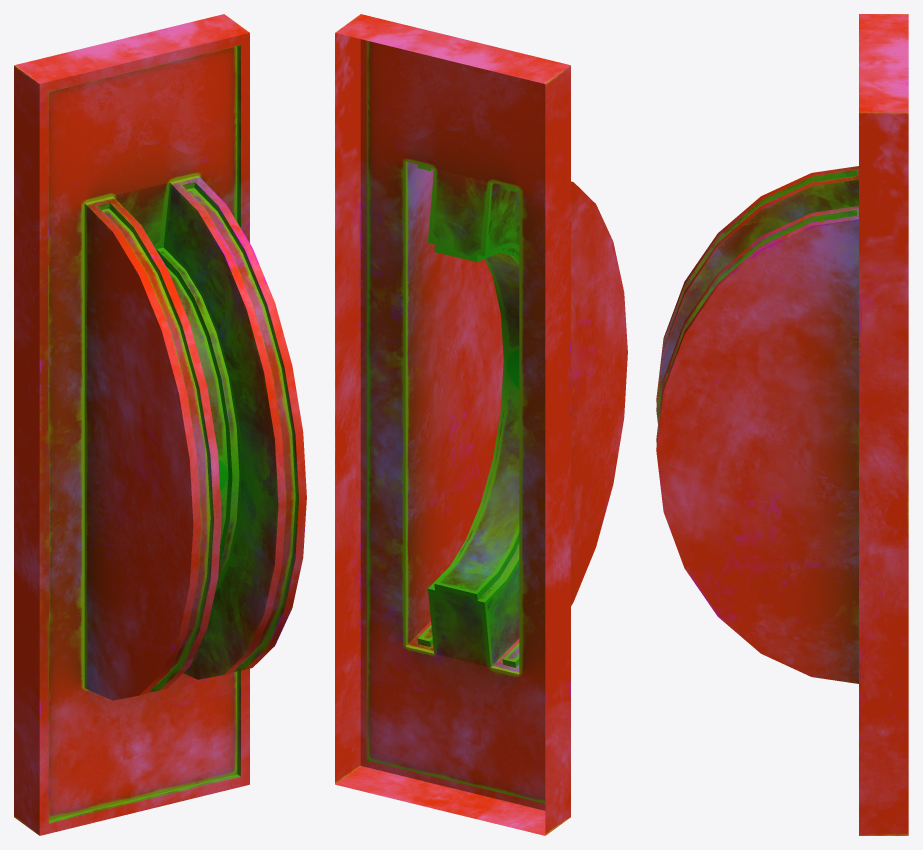
The model's file is Lever_Housing.glb.
3 views of the same model, side by side, from view 1: azimuth 30°, elevation 25°; view 2: azimuth 150°, elevation 25°; view 3: azimuth 270°, elevation 25° (orthographic). The views are drawn at different scales.
Visible parts, largest first — view 1: lever_base_dummy_material_0.002_0; view 2: lever_base_dummy_material_0.002_0; view 3: lever_base_dummy_material_0.002_0.
Part boxes in pixels (box(x1,y1,x2,y2)): lever_base_dummy_material_0.002_0: box(14, 14, 306, 835); lever_base_dummy_material_0.002_0: box(335, 14, 627, 835); lever_base_dummy_material_0.002_0: box(656, 14, 908, 835).
Size of the model in its own units: 0.2155 by 0.7361 by 0.2325.
Materials: 1 (1 with a texture image).
